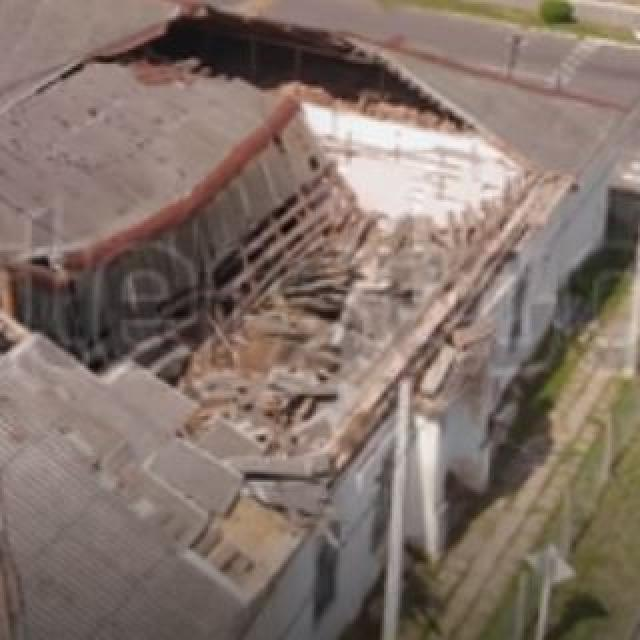collapsed_building: (0, 14, 618, 502)
